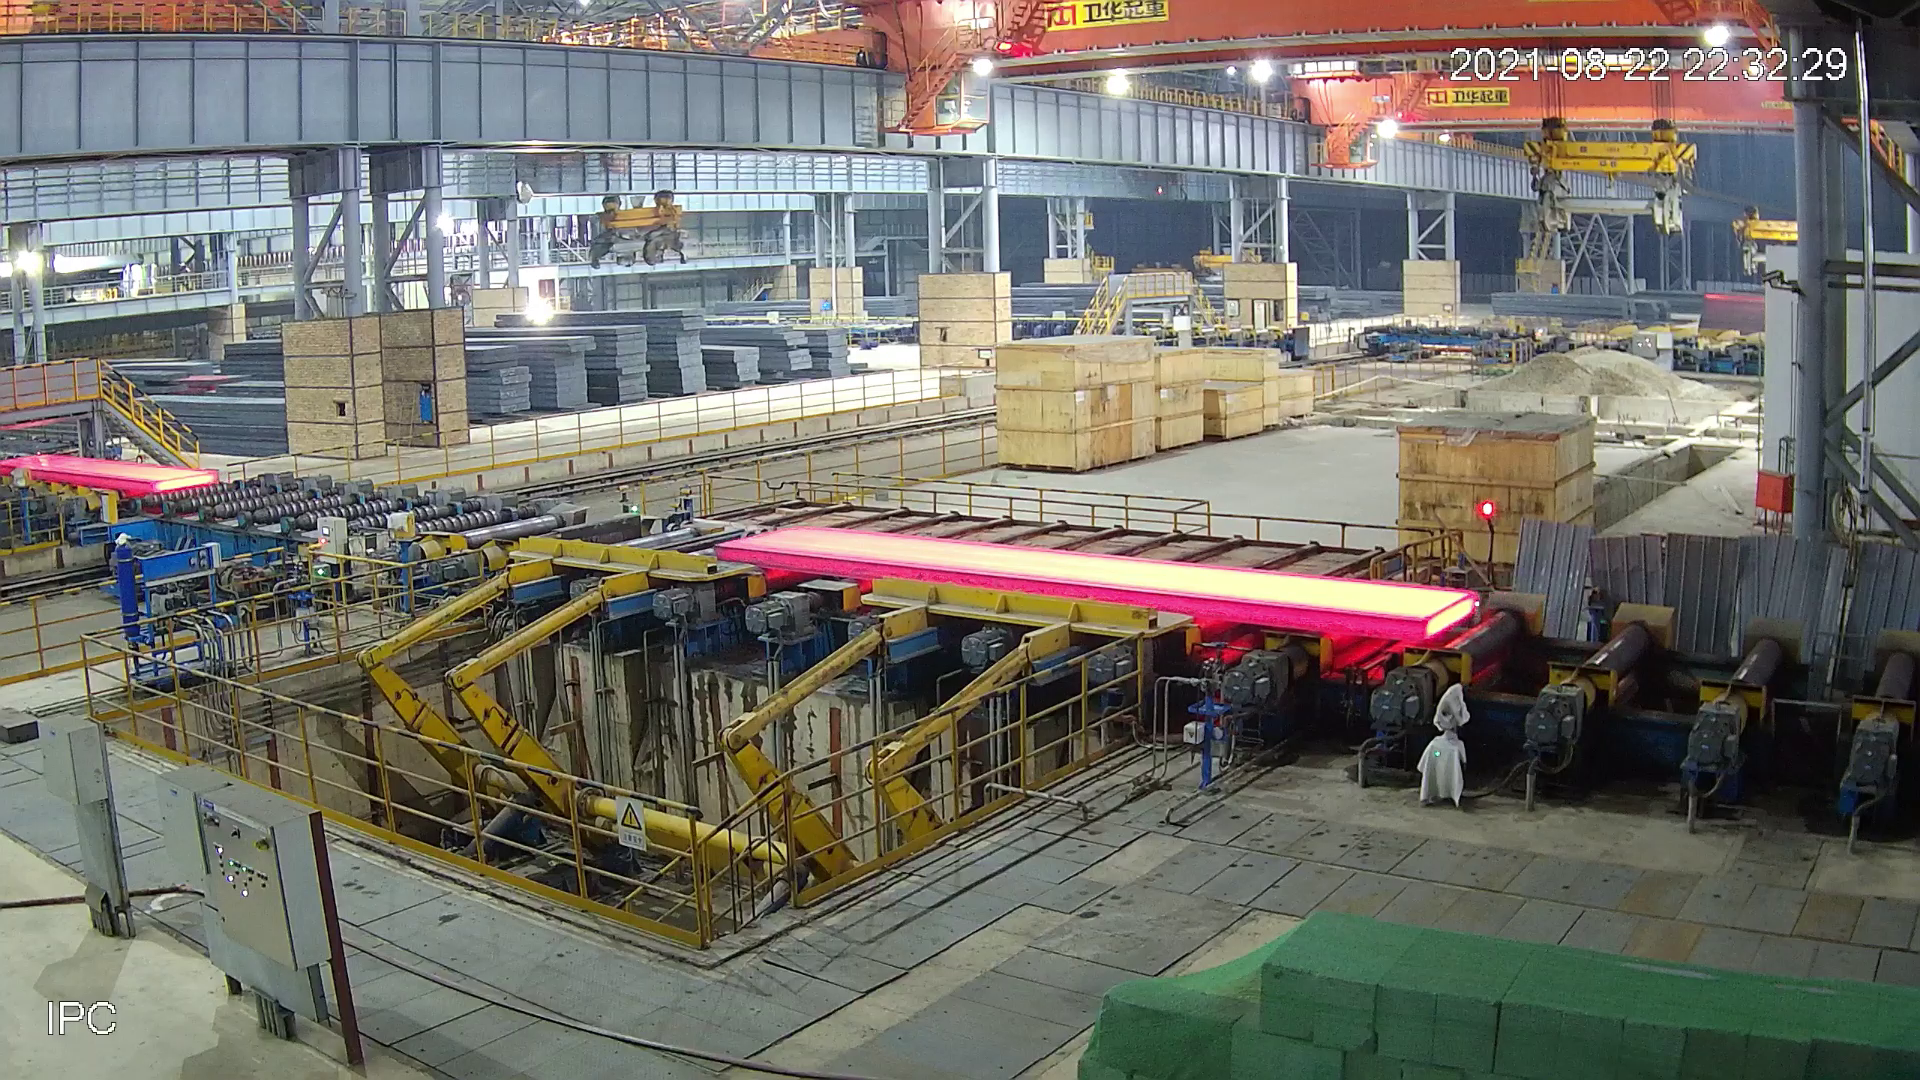slab: (712, 524, 1478, 637)
